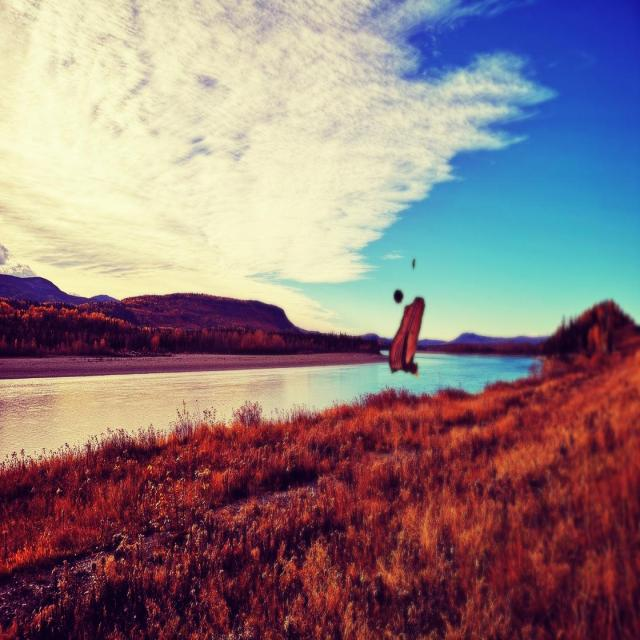airplane: (380, 294, 422, 377)
